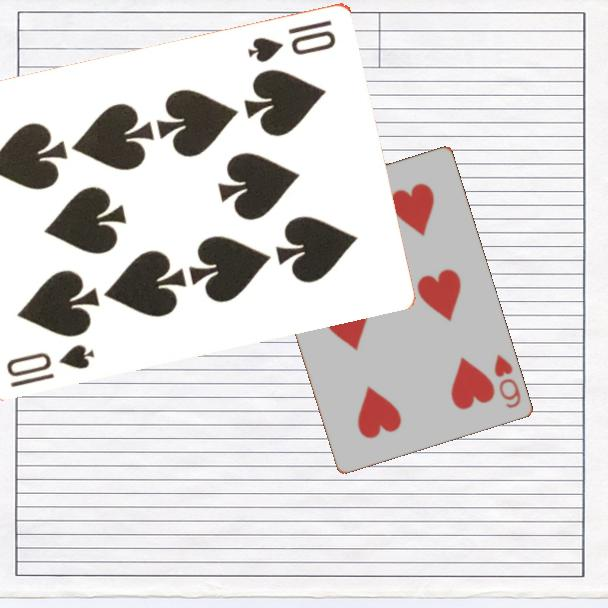h06: (490, 350, 523, 411)
s10: (3, 340, 98, 390), (244, 16, 339, 65)
